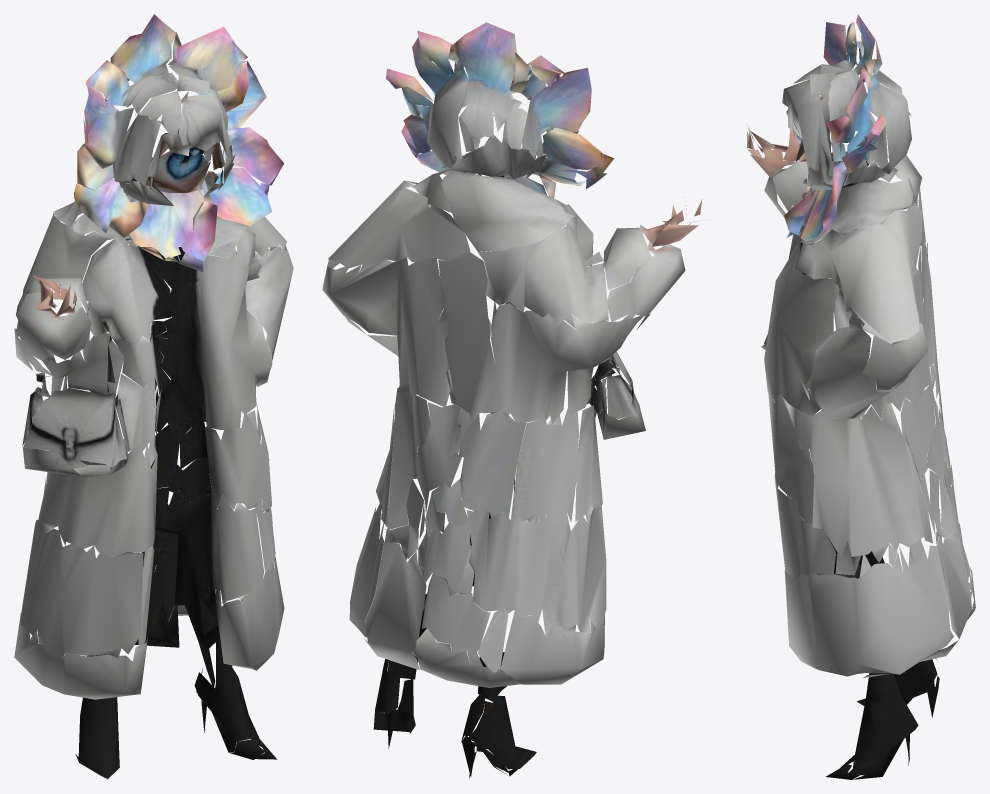
File: crowd_editor_full.glb
The picture shows the model from 3 angles, left to right: view 1: azimuth 30°, elevation 25°; view 2: azimuth 150°, elevation 25°; view 3: azimuth 270°, elevation 25°; orthographic projection. The views are drawn at different scales.
Parts seen in each view (by area): view 1: tripo_node_bf9fb8a6-23f6-4862-ac37-375ab1056567; view 2: tripo_node_bf9fb8a6-23f6-4862-ac37-375ab1056567; view 3: tripo_node_bf9fb8a6-23f6-4862-ac37-375ab1056567.
Boxes of the visible parts, x1,y1,x2,y2 form: tripo_node_bf9fb8a6-23f6-4862-ac37-375ab1056567: (14,14,293,779); tripo_node_bf9fb8a6-23f6-4862-ac37-375ab1056567: (322,22,702,779); tripo_node_bf9fb8a6-23f6-4862-ac37-375ab1056567: (746,14,975,779).
Size of the model in its own units: 0.4508 by 1 by 0.2923.
1 material, 1 textured.
